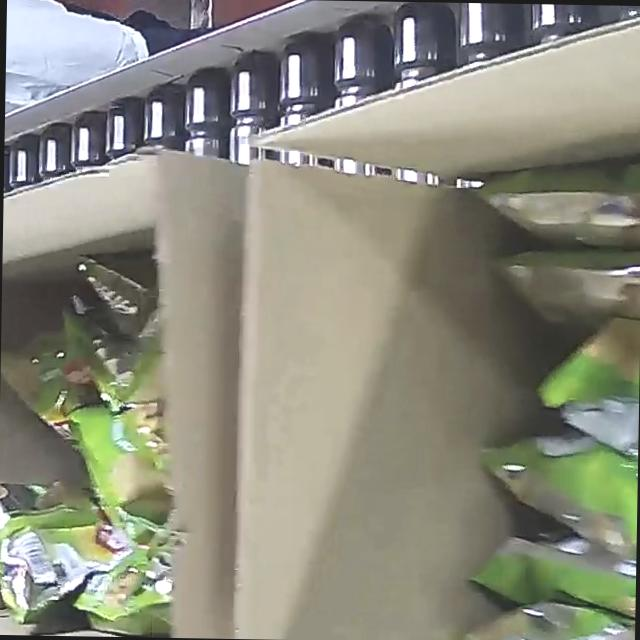yogurt: (384, 173, 640, 640), (0, 251, 182, 637)
